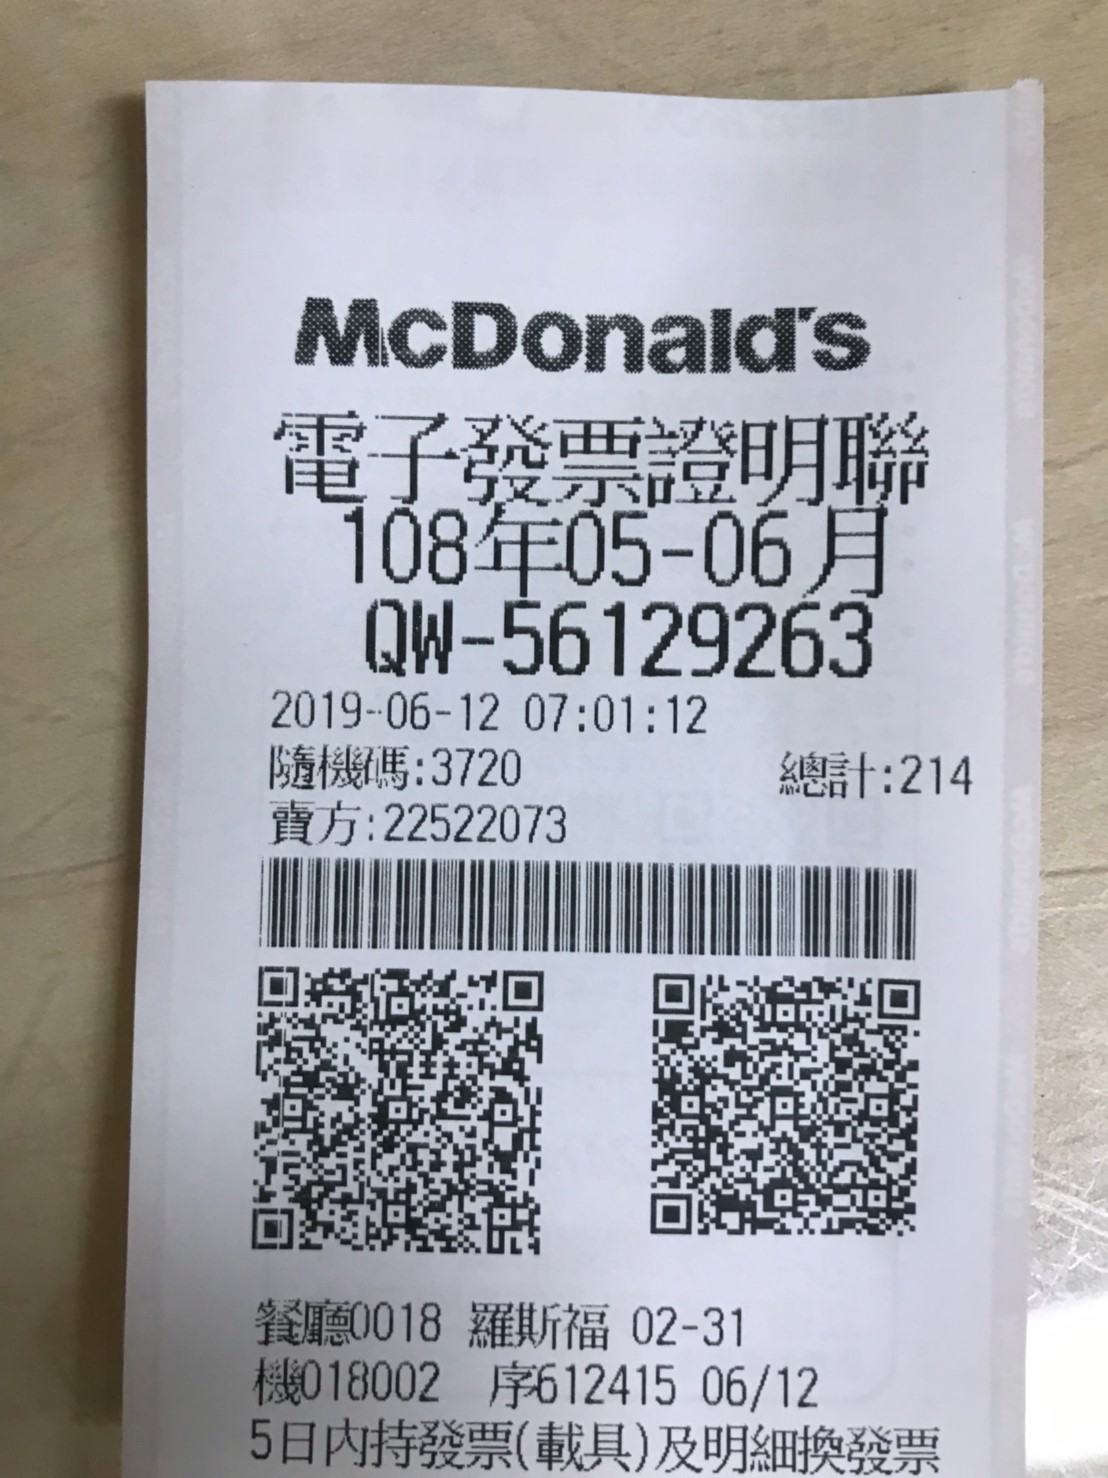Date_New: (341, 498, 893, 597)
Number_New: (504, 602, 876, 684)
